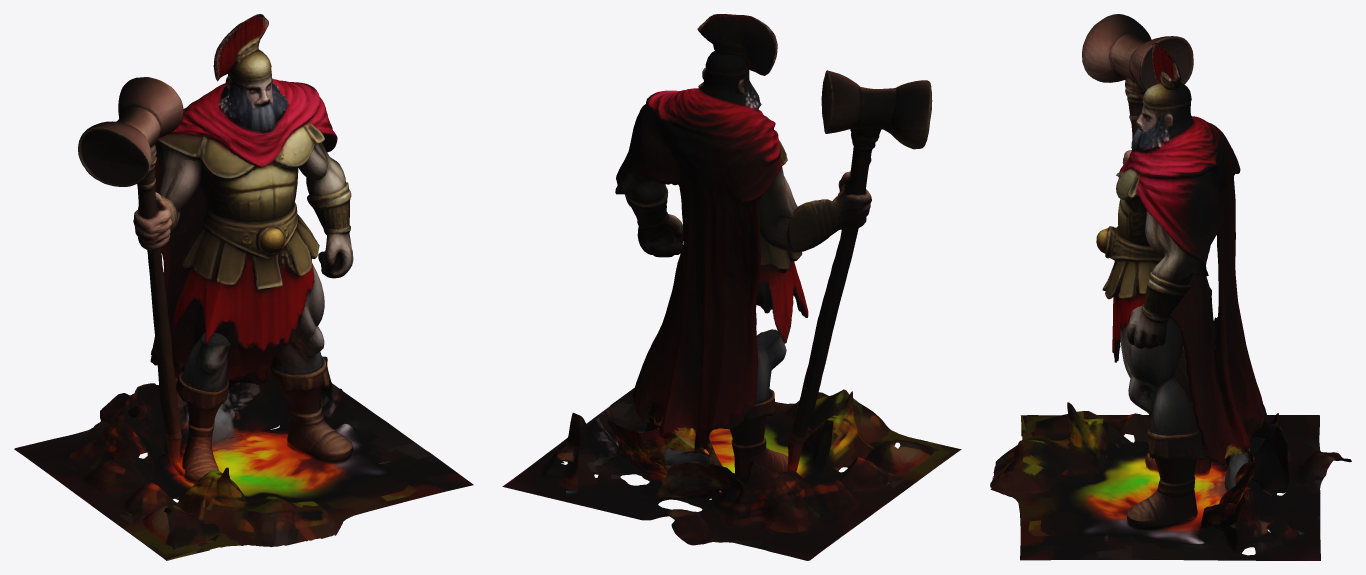
File: model.trellis.glb
3 renders of one model, left to right at view 1: azimuth 30°, elevation 25°; view 2: azimuth 150°, elevation 25°; view 3: azimuth 270°, elevation 25°, orthographic. The views are drawn at different scales.
Parts seen in each view (by area): view 1: world; view 2: world; view 3: world.
Part boxes in pixels (x1,y1,x2,y2): world: [14, 14, 473, 560]; world: [502, 14, 961, 560]; world: [990, 14, 1351, 560].
Size of the model in its own units: 0.7783 by 1 by 0.7446.
1 material, 1 textured.
